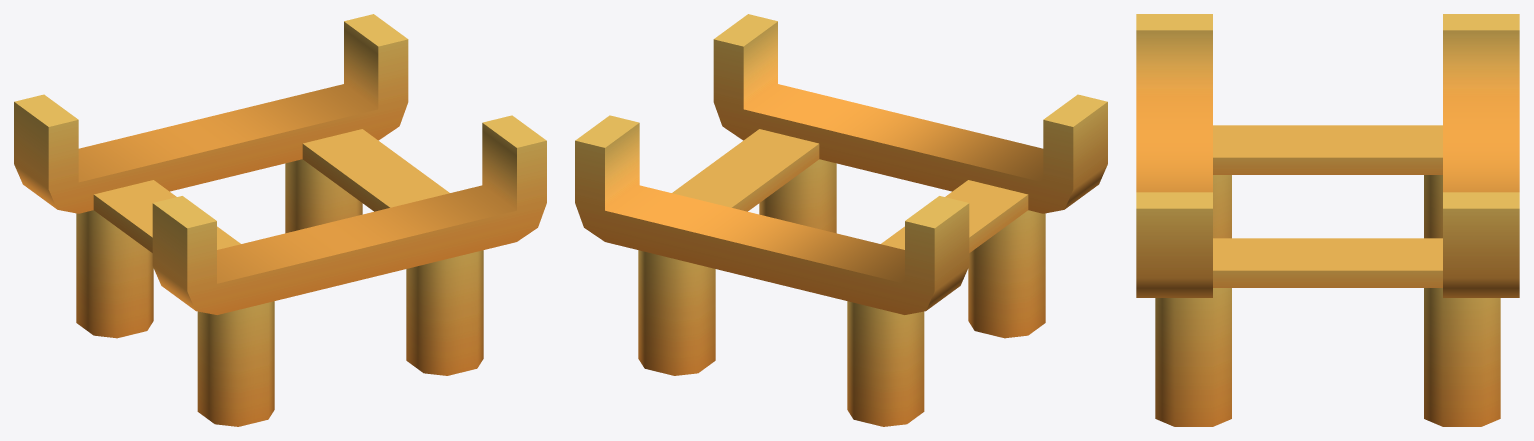
File: support-color-four-top-double.glb
The picture shows the model from 3 angles, left to right: view 1: azimuth 30°, elevation 25°; view 2: azimuth 150°, elevation 25°; view 3: azimuth 270°, elevation 25°; orthographic projection. The views are drawn at different scales.
Parts seen in each view (by area): view 1: support-color-four-top-double; view 2: support-color-four-top-double; view 3: support-color-four-top-double.
Part boxes in pixels (bbox=[...]): support-color-four-top-double: bbox=[14, 14, 546, 426]; support-color-four-top-double: bbox=[575, 14, 1107, 426]; support-color-four-top-double: bbox=[1136, 14, 1519, 426].
Bounding box in the file's own units: 1.2 × 0.7 × 1.
1 material, 1 textured.
